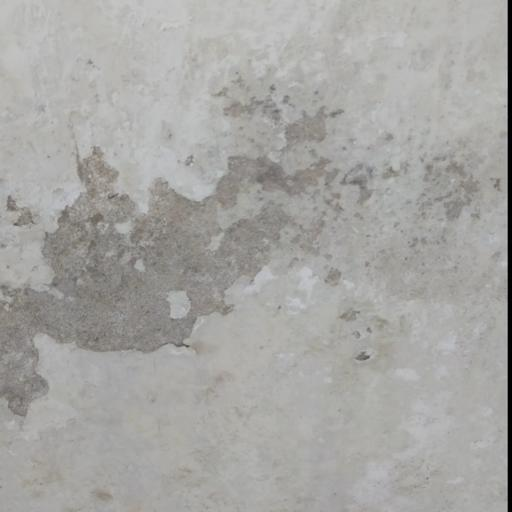peeling: (0, 41, 372, 426)
